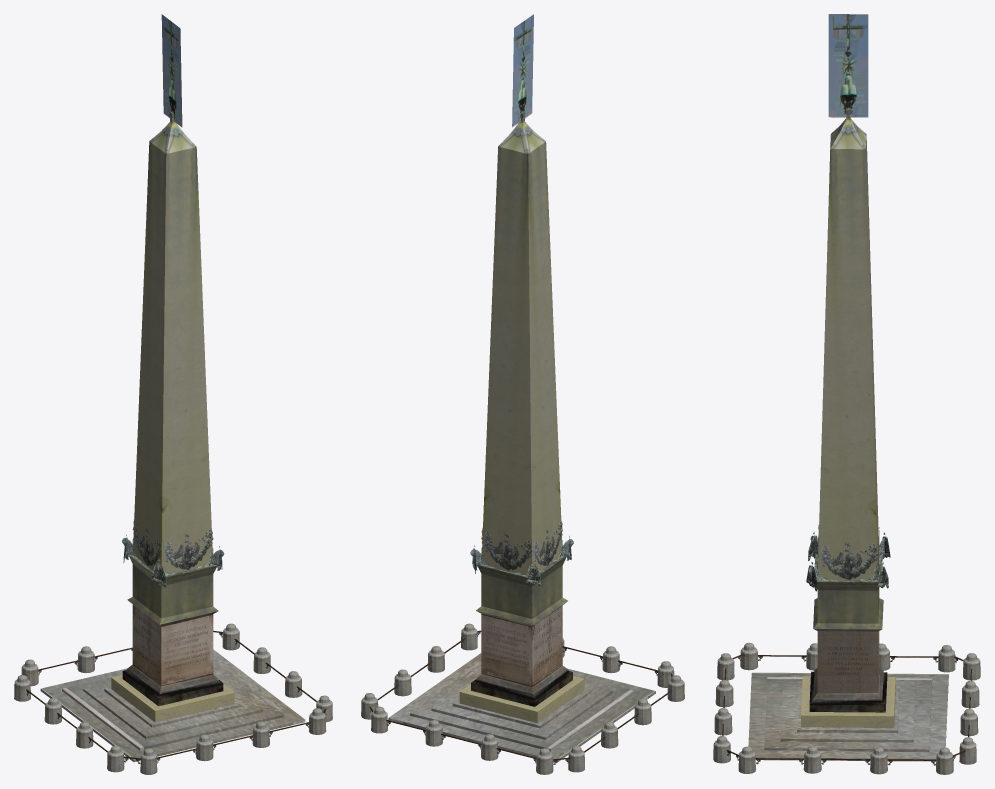
3 renders of one model, left to right at view 1: azimuth 30°, elevation 25°; view 2: azimuth 150°, elevation 25°; view 3: azimuth 270°, elevation 25°, orthographic. The views are drawn at different scales.
Visible parts, largest first — view 1: Component_1 (×4), skp70BA (×7), Component (×3), Component_2 (×2); view 2: Component_1 (×3), skp70BA (×7), Component (×3), Component_2 (×2); view 3: Component (×7), skp70BA (×6), Component_2, Component_1.
Boxes of the visible parts, box(x1,y1,x2,y2) form: Component_1 (×4): box(155, 147, 234, 722); skp70BA (×7): box(40, 14, 305, 761); Component (×3): box(111, 141, 166, 722); Component_2 (×2): box(132, 523, 213, 575); Component_1 (×3): box(459, 146, 537, 723); skp70BA (×7): box(388, 14, 655, 763); Component (×3): box(528, 142, 584, 722); Component_2 (×2): box(481, 521, 562, 575); Component (×7): box(801, 149, 893, 727); skp70BA (×6): box(748, 14, 948, 761); Component_2: box(817, 542, 878, 580); Component_1: box(866, 137, 879, 569).
Bounding box in the file's own units: 559 × 559 × 1626.
Materials: 24 (23 with a texture image).
